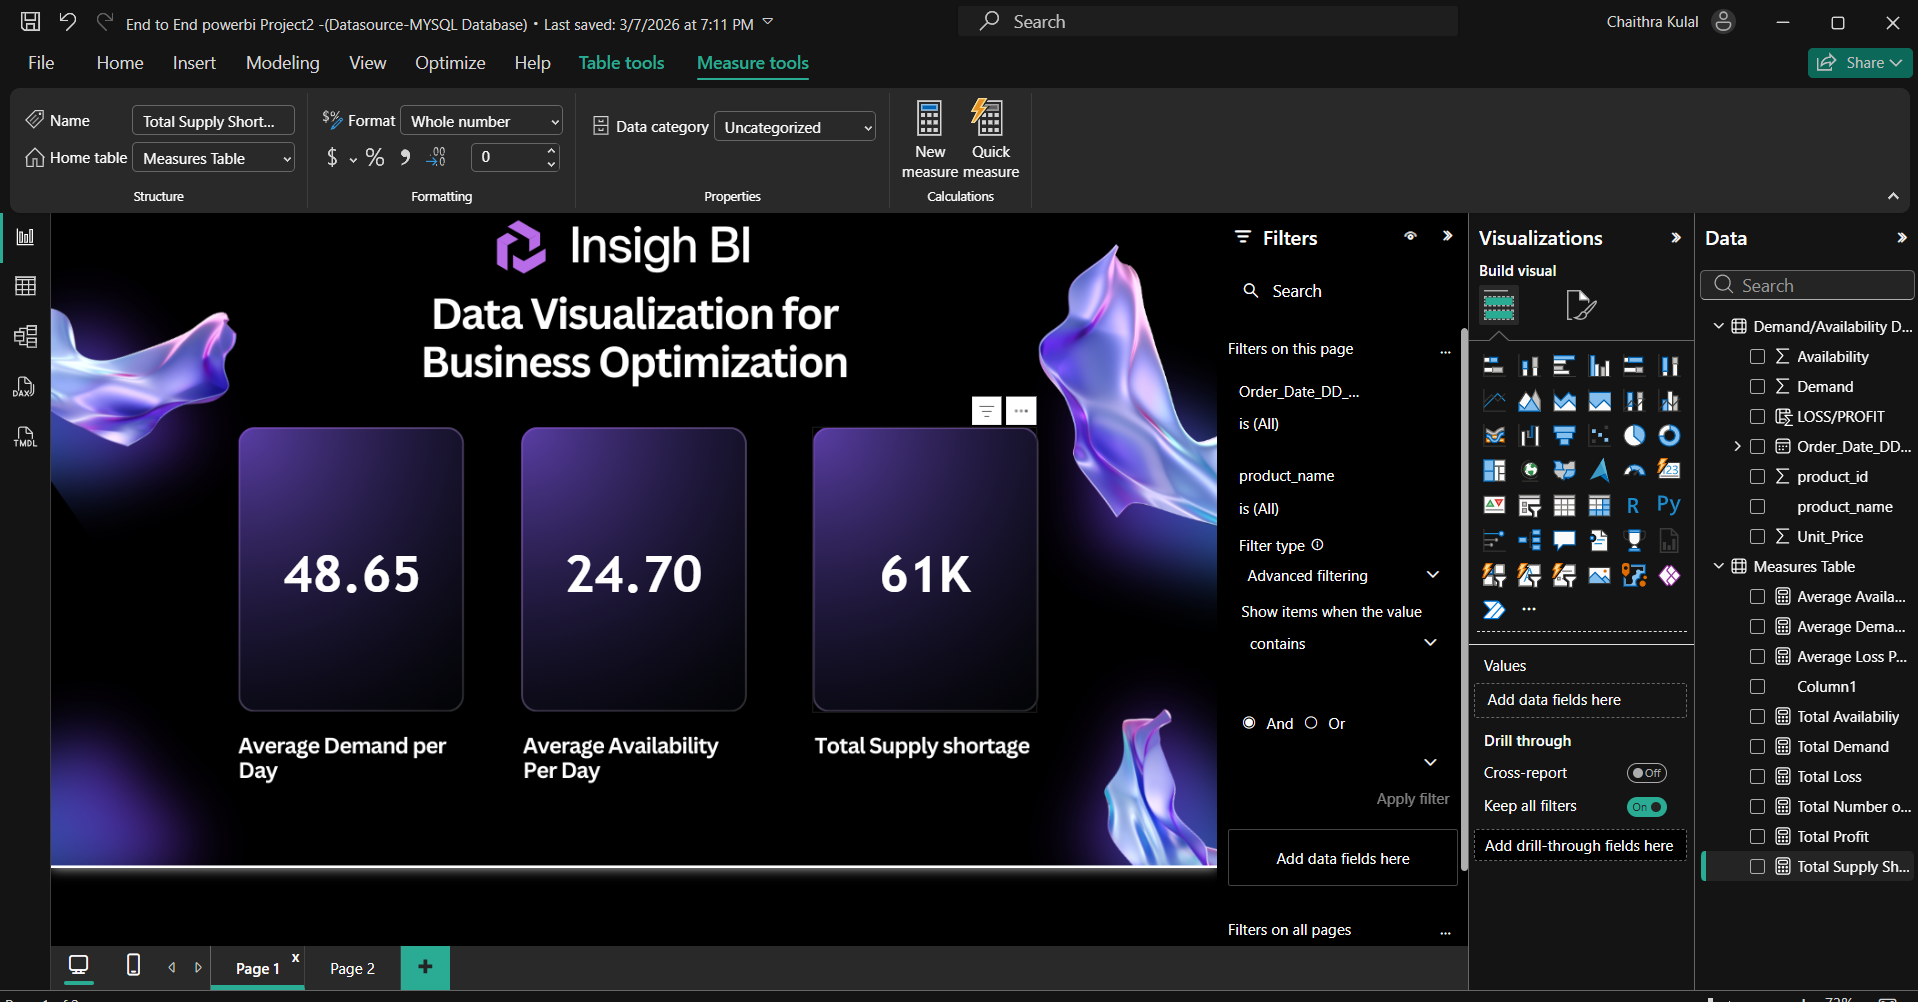

Layout of this report page (visuals, bound fields, positions):
{"tool":"powerbi","page":{"name":"Page 1","canvas":[1280,720],"ordinal":0},"visuals":[{"type":"card","fields":{"Values":["Measures Table.Average Demand Per Day"]},"box":[207.2,234.6,247,314.2],"z":0},{"type":"card","fields":{"Values":["Measures Table.Average Availability Per Day"]},"box":[516,234.6,247,314.2],"z":1000},{"type":"card","fields":{"Values":["Measures Table.Total Supply Shortage"]},"box":[835.7,234.6,247,314.2],"z":2000}]}

Visuals, with their boxes on the page's 1280x720 design canvas (x1, y1, x2, y2). These are canvas units, not pixel positions in the 1918x1002 screenshot, which may show the page scaled, cropped or inside an application window:
card - Measures Table.Average Demand Per Day: (207, 235, 454, 549)
card - Measures Table.Average Availability Per Day: (516, 235, 763, 549)
card - Measures Table.Total Supply Shortage: (836, 235, 1083, 549)
